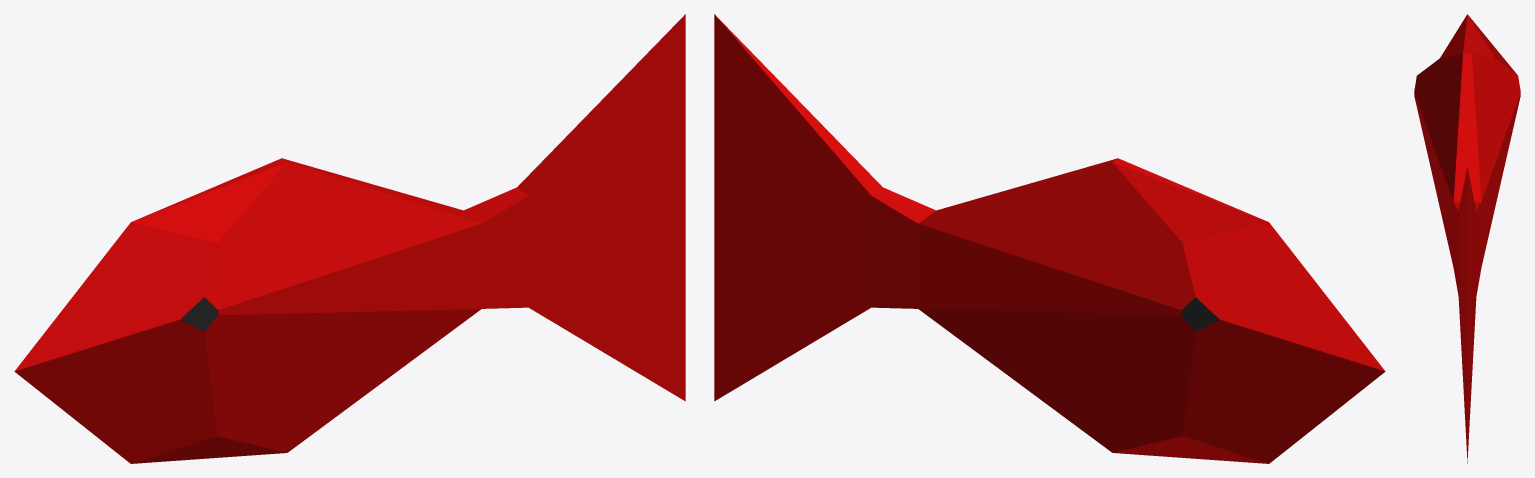
File: fish.fbx
3 renders of one model, left to right at view 1: azimuth 30°, elevation 25°; view 2: azimuth 150°, elevation 25°; view 3: azimuth 270°, elevation 25°, orthographic. The views are drawn at different scales.
Parts seen in each view (by area): view 1: Circle; view 2: Circle; view 3: Circle.
Part boxes in pixels (<box>): Circle: <box>14,14,685,463</box>; Circle: <box>714,14,1385,463</box>; Circle: <box>1414,14,1520,463</box>.
Size of the model in its own units: 214 by 118 by 38.21.
